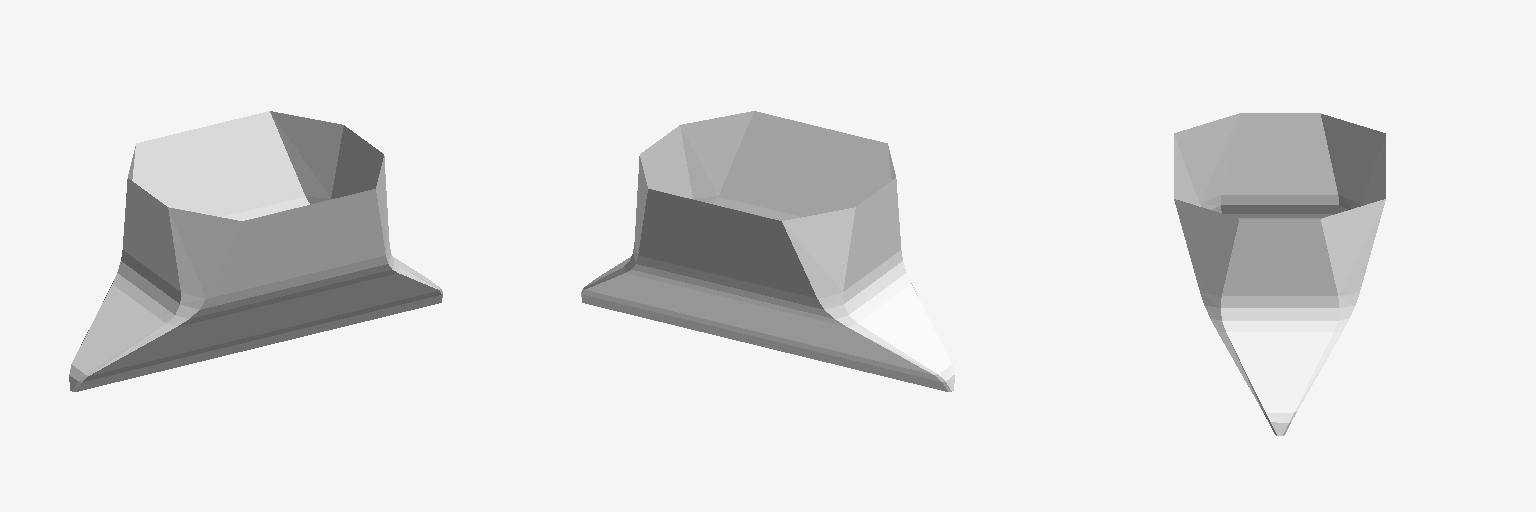
The model's file is cloth02.obj.
3 views of the same model, side by side, from view 1: azimuth 30°, elevation 25°; view 2: azimuth 150°, elevation 25°; view 3: azimuth 270°, elevation 25° (orthographic).
Visible parts, largest first — view 1: cloth02:pPlane6; view 2: cloth02:pPlane6; view 3: cloth02:pPlane6.
Part boxes in pixels (x1,y1,x2,y2): cloth02:pPlane6: (69, 111, 442, 391); cloth02:pPlane6: (581, 111, 954, 391); cloth02:pPlane6: (1174, 113, 1385, 435).
Size of the model in its own units: 5.13 by 2.38 by 2.55.